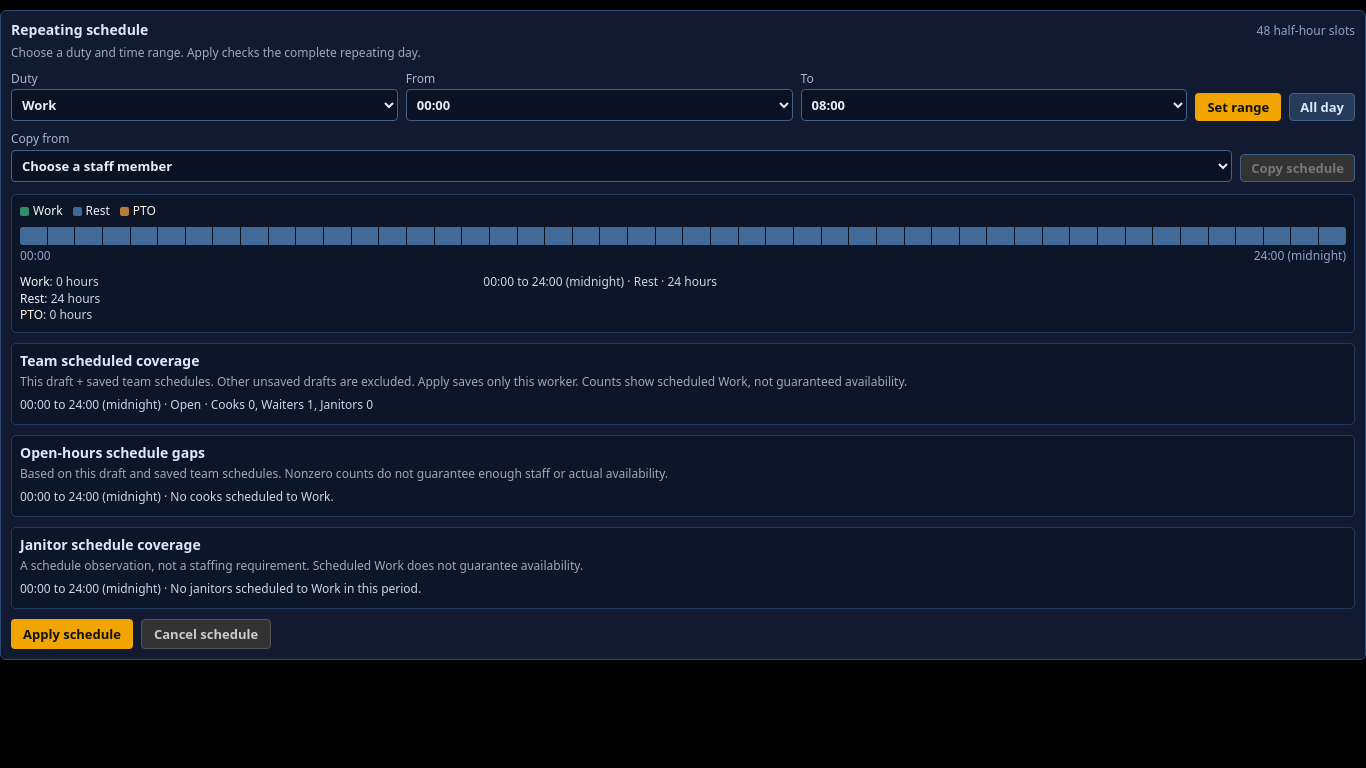
Test: StaffScheduleEditor › updates open-hours gaps from the draft and clears them when both roles are staffed
Expected: the list items read "00:00 to 24:00 (midnight) · No cooks scheduled to Work.", in this order, [20,488,334,505]
Expected: the list named "Team coverage preview" shows "Cooks 0, Waiters 1", [20,396,373,413]
Select "Work" in the dropdown labelled "Duty" at (204, 105), box [11,89,398,121]
Click the button "All day" at (1322, 107), box [1289,93,1355,121]
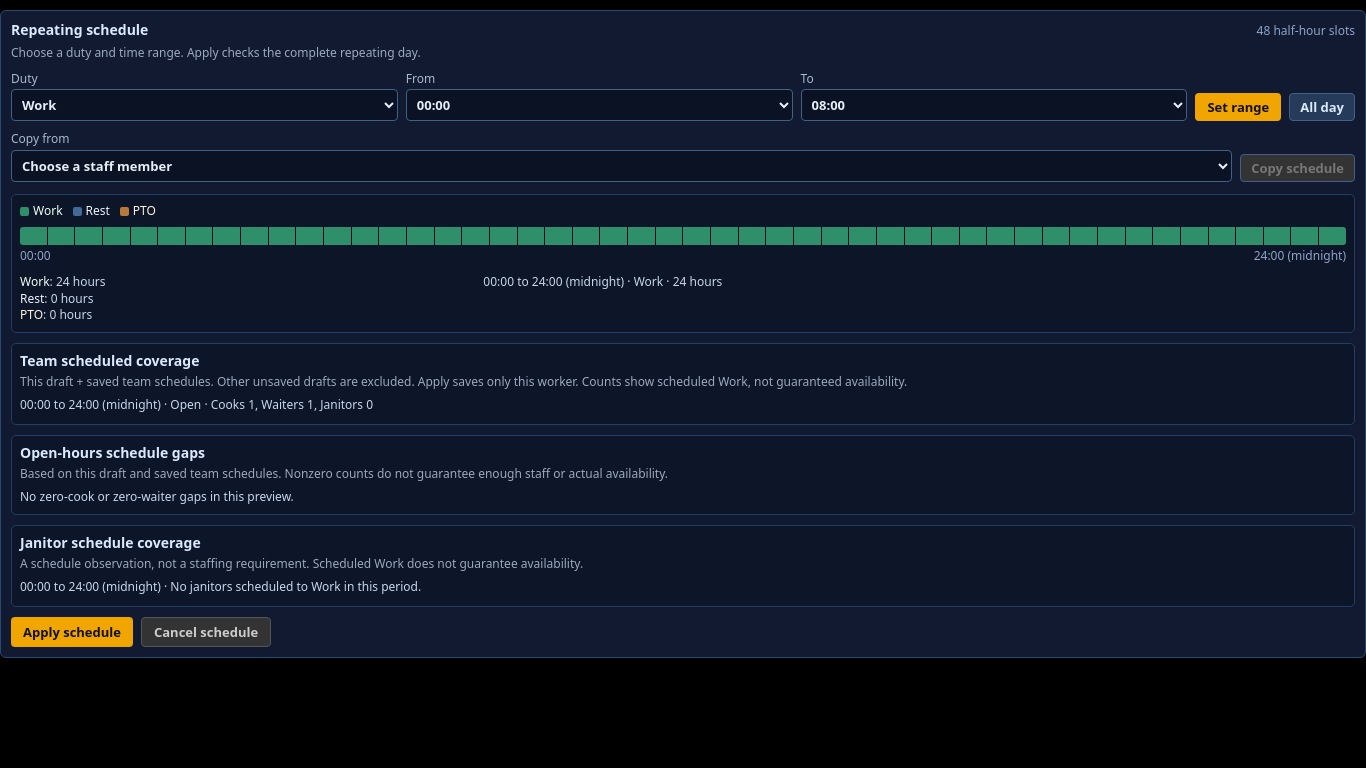
Now the text "No zero-cook or zero-waiter gaps in this preview." is shown, box [20,488,294,505]
Now the list named "Team coverage preview" shows "Cooks 1, Waiters 1", box [20,396,373,413]
